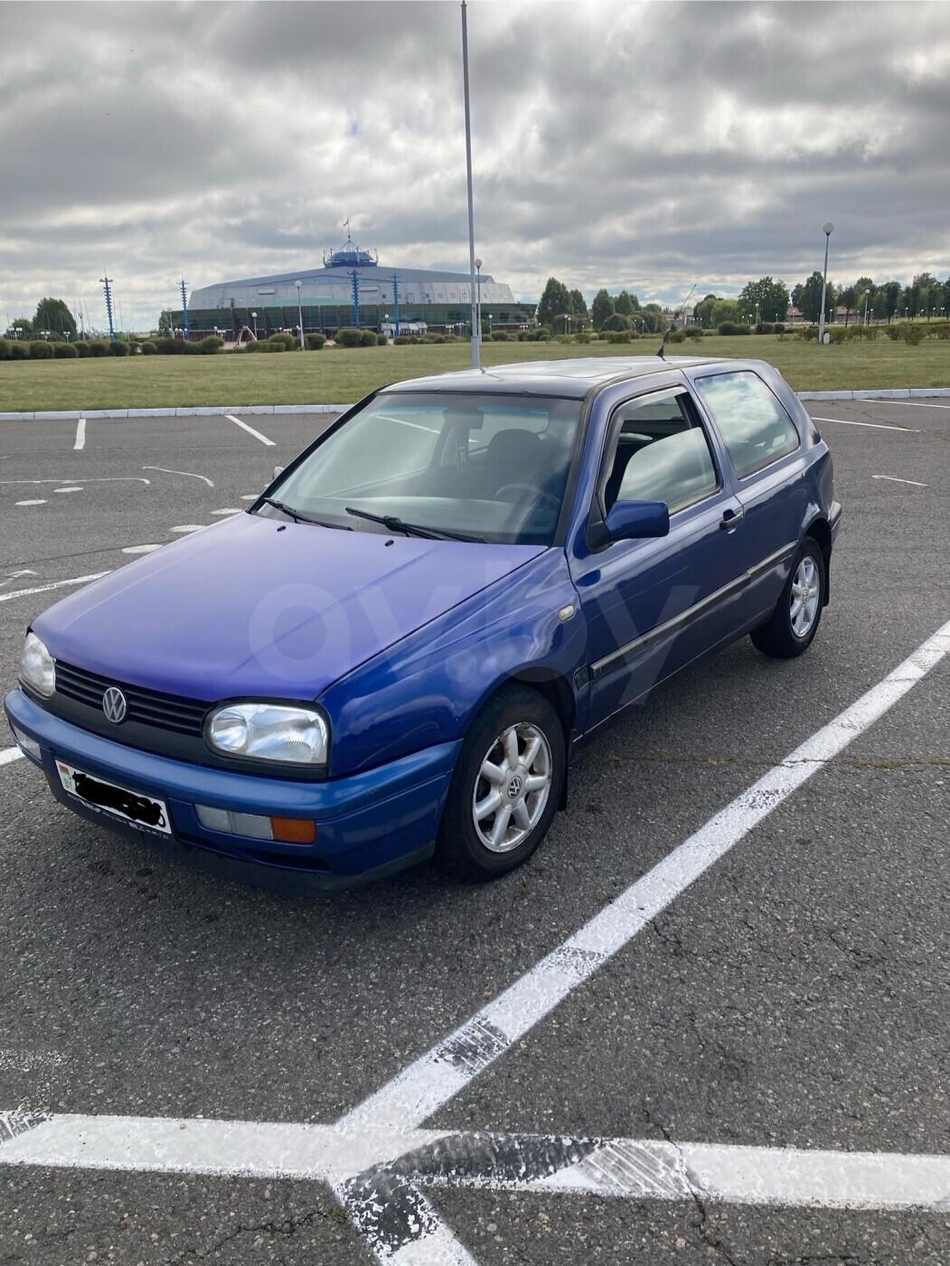Golf_1991-2000: (9, 355, 858, 890)
